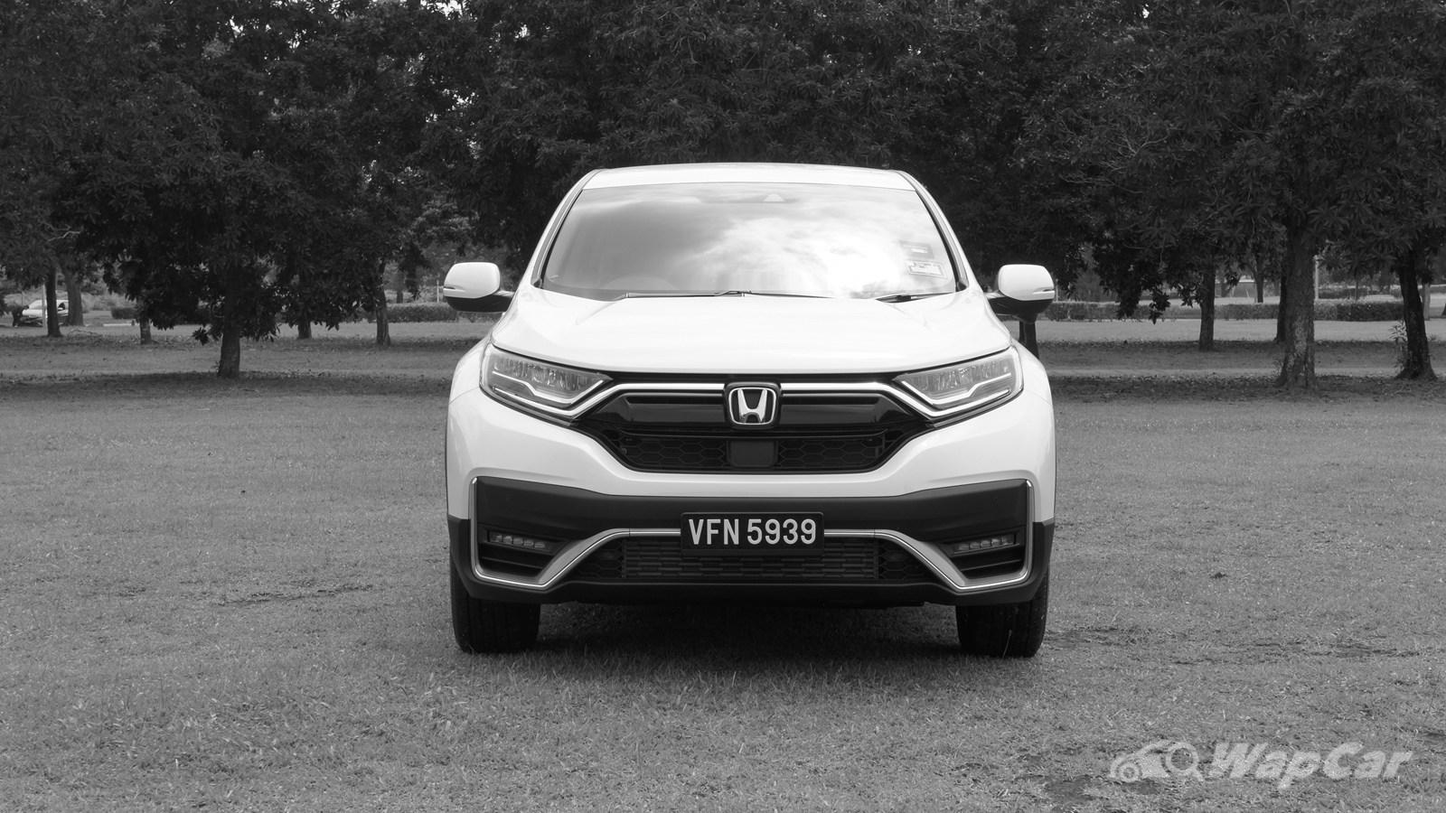Car hood: (488, 281, 1017, 377)
Front bumper: (439, 403, 1072, 613)
Headlight - -L-: (883, 340, 1032, 431)
Headlight - -R-: (471, 337, 623, 427)
Side mirror - -R-: (976, 258, 1062, 324), (437, 253, 518, 318)
